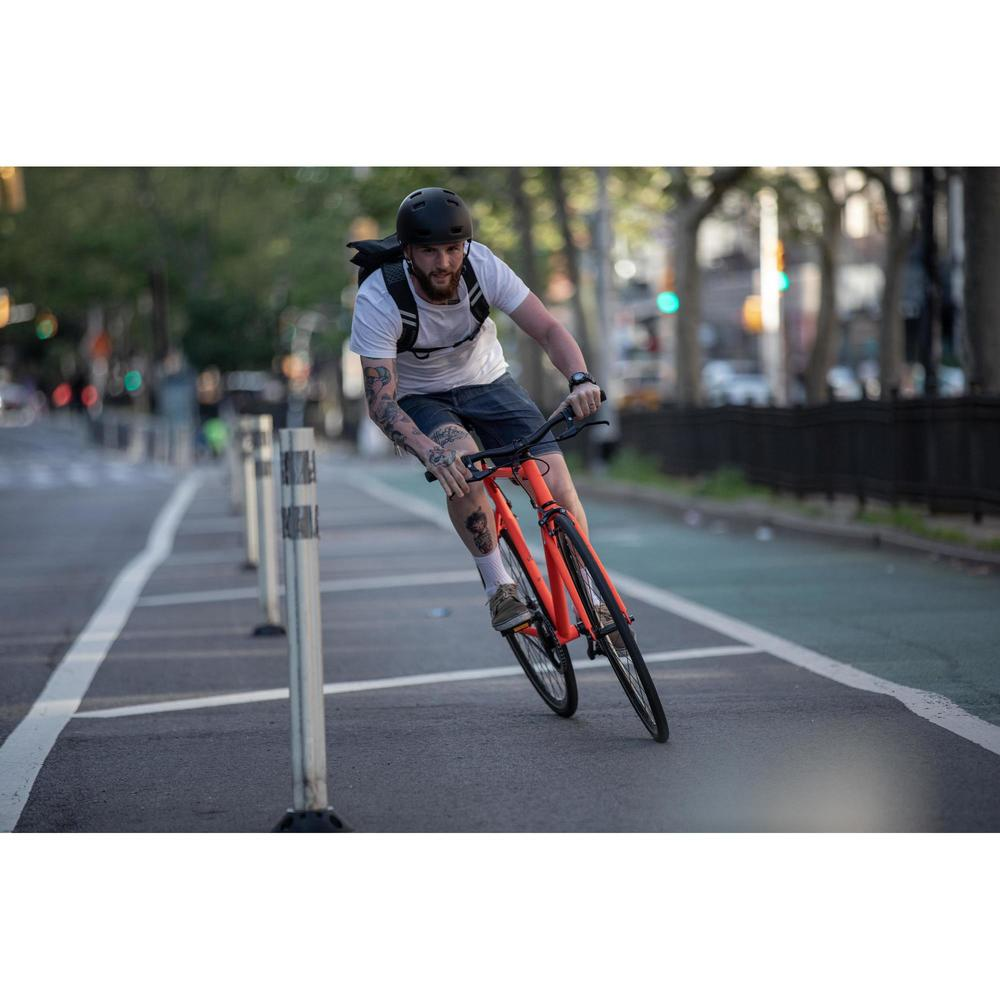UrbanBike: (378, 370, 672, 737)
